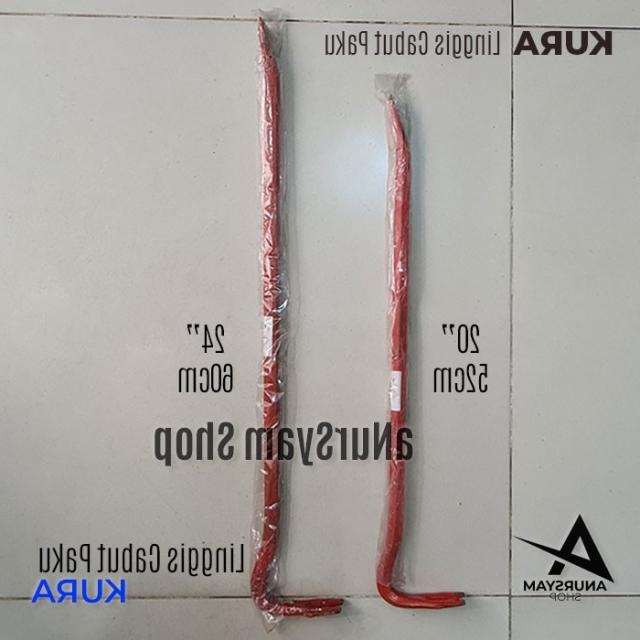Linggis: (378, 89, 468, 615)
